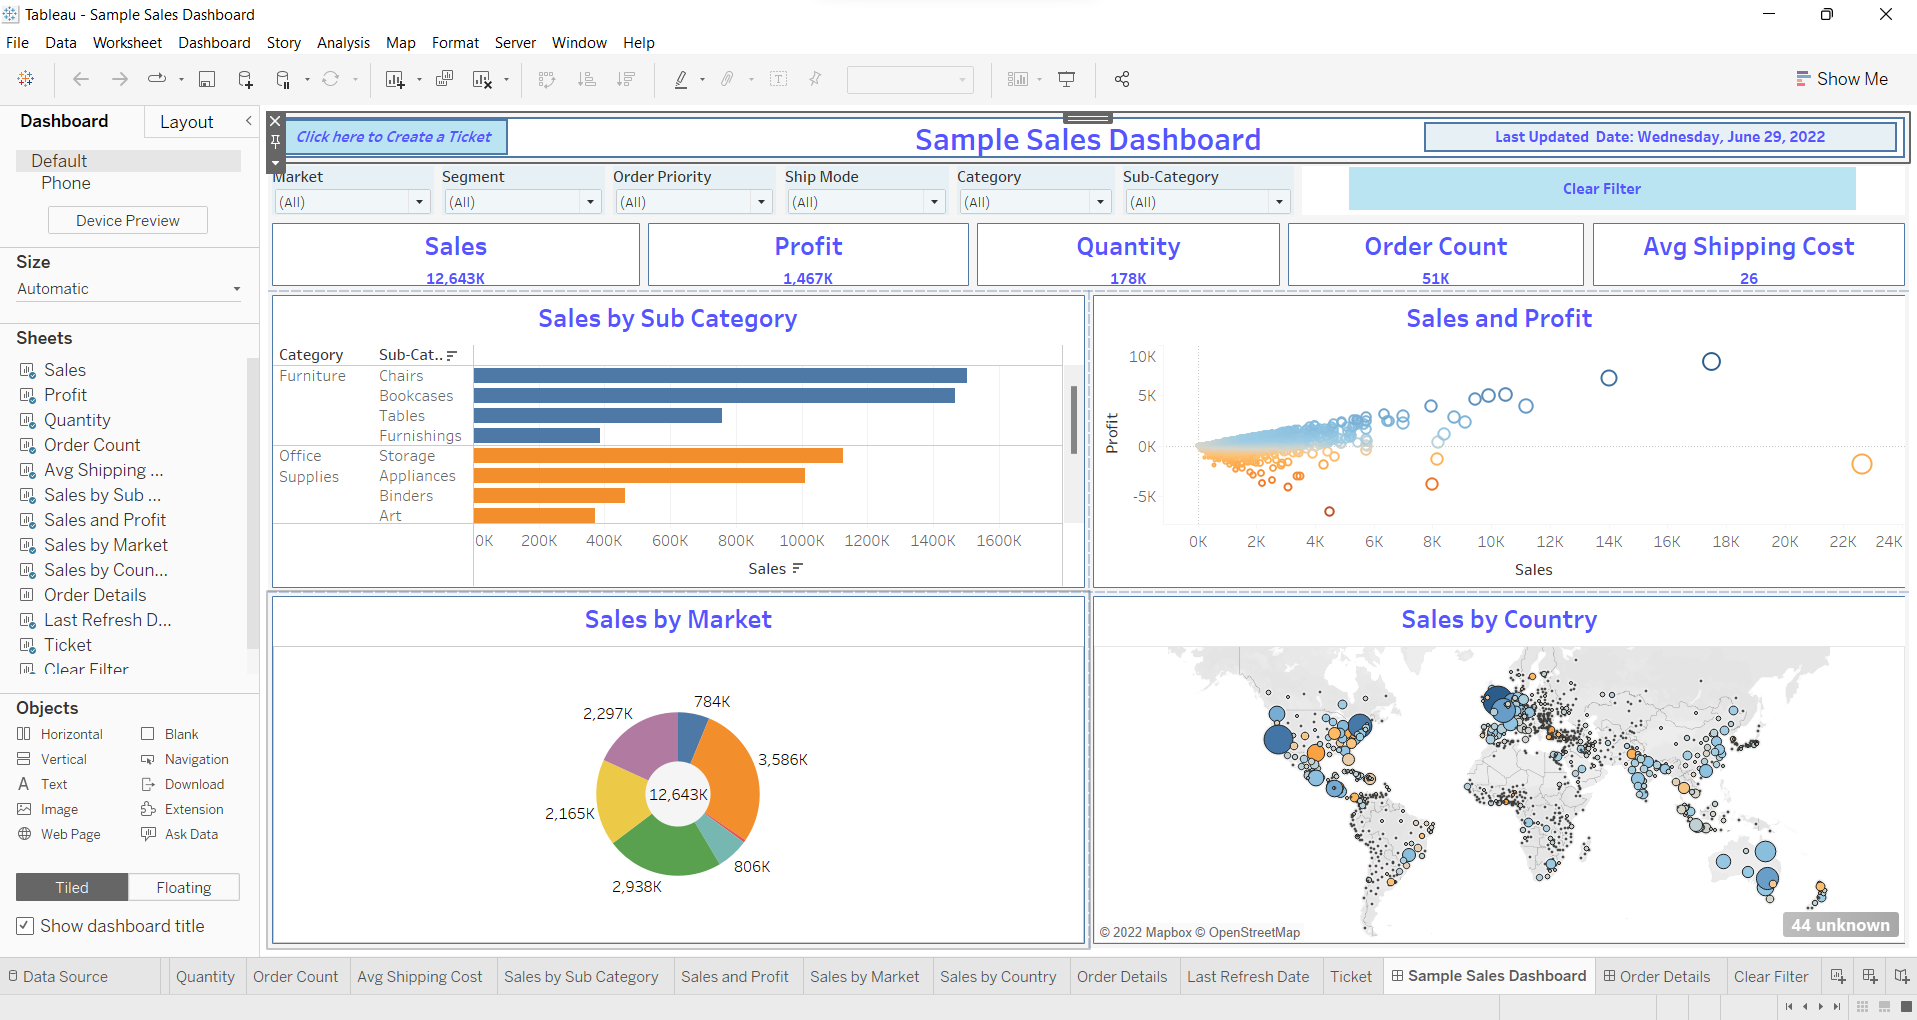

What the dashboard file says about the page in this screenshot:
{"tool":"tableau","page":{"name":"Sample Sales Dashboard","canvas":[1000,1000],"units":"permille","ordinal":1},"visuals":[{"type":"title","box":[4.8,9.1,990.3,56]},{"type":"worksheet","title":"Ticket","mark":"Automatic","box":[12.9,16,137.2,42.3]},{"type":"worksheet","title":"Last Refresh Date","mark":"Automatic","box":[702.3,19.4,285.4,35.4]},{"type":"filter","title":"Sales","param":"[federated.1vyc99a0g6ttim19hyxfb0kb97x7].[none:Market:nk]","box":[4.8,65.1,102.7,68.2]},{"type":"filter","title":"Sales","param":"[federated.1vyc99a0g6ttim19hyxfb0kb97x7].[none:Segment:nk]","box":[107.5,65.1,103.4,68.2]},{"type":"filter","title":"Sales","param":"[federated.1vyc99a0g6ttim19hyxfb0kb97x7].[none:Order Priority:nk]","box":[210.9,65.1,103.4,68.2]},{"type":"filter","title":"Sales","param":"[federated.1vyc99a0g6ttim19hyxfb0kb97x7].[none:Ship Mode:nk]","box":[314.2,65.1,103.9,68.2]},{"type":"filter","title":"Sales","param":"[federated.1vyc99a0g6ttim19hyxfb0kb97x7].[none:Category:nk]","box":[418.1,65.1,100.3,68.2]},{"type":"filter","title":"Sales","param":"[federated.1vyc99a0g6ttim19hyxfb0kb97x7].[none:Sub-Category:nk]","box":[518.4,65.1,108.2,68.2]},{"type":"blank","box":[626.7,65.1,368.5,68.2]},{"type":"worksheet","title":"Clear Filter","mark":"Automatic","box":[657.4,73.1,306.3,50.3]},{"type":"worksheet","title":"Sales","mark":"Automatic","box":[4.8,133.3,226.9,85]},{"type":"worksheet","title":"Profit","mark":"Automatic","box":[231.8,133.3,198.5,85]},{"type":"worksheet","title":"Quantity","mark":"Automatic","box":[430.3,133.3,187.8,85]},{"type":"worksheet","title":"Order Count","mark":"Automatic","box":[618.1,133.3,183.7,85]},{"type":"worksheet","title":"Avg Shipping Cost","mark":"Automatic","box":[801.9,133.3,193.3,85]},{"type":"worksheet","title":"Sales by Sub Category","mark":"Automatic","rows":["Category","Sub-Category"],"cols":["Sales"],"box":[4.8,218.3,495.2,354.3]},{"type":"worksheet","title":"Sales and Profit","mark":"Automatic","rows":["Profit"],"cols":["Sales"],"box":[500,218.3,495.2,354.3]},{"type":"worksheet","title":"Sales by Market","mark":"Pie","rows":["Calculation_553379849510731776","Calculation_553379849510731776"],"box":[4.8,572.6,495.2,418.3]},{"type":"worksheet","title":"Sales by Country","mark":"Automatic","box":[500,572.6,495.2,418.3]}]}

Visuals, with their boxes on the dashboard's canvas, which has no fixed pixel size, in thousandths of its width and height (x1, y1, x2, y2). These are canvas units, not pixel positions in the 1917x1020 screenshot, which may show the page scaled, cropped or inside an application window:
title: (left=5, top=9, right=995, bottom=65)
"Ticket" worksheet: (left=13, top=16, right=150, bottom=58)
"Last Refresh Date" worksheet: (left=702, top=19, right=988, bottom=55)
"Sales" filter: (left=5, top=65, right=108, bottom=133)
"Sales" filter: (left=108, top=65, right=211, bottom=133)
"Sales" filter: (left=211, top=65, right=314, bottom=133)
"Sales" filter: (left=314, top=65, right=418, bottom=133)
"Sales" filter: (left=418, top=65, right=518, bottom=133)
"Sales" filter: (left=518, top=65, right=627, bottom=133)
blank: (left=627, top=65, right=995, bottom=133)
"Clear Filter" worksheet: (left=657, top=73, right=964, bottom=123)
"Sales" worksheet: (left=5, top=133, right=232, bottom=218)
"Profit" worksheet: (left=232, top=133, right=430, bottom=218)
"Quantity" worksheet: (left=430, top=133, right=618, bottom=218)
"Order Count" worksheet: (left=618, top=133, right=802, bottom=218)
"Avg Shipping Cost" worksheet: (left=802, top=133, right=995, bottom=218)
"Sales by Sub Category" worksheet: (left=5, top=218, right=500, bottom=573)
"Sales and Profit" worksheet: (left=500, top=218, right=995, bottom=573)
"Sales by Market" worksheet (Pie marks): (left=5, top=573, right=500, bottom=991)
"Sales by Country" worksheet: (left=500, top=573, right=995, bottom=991)
